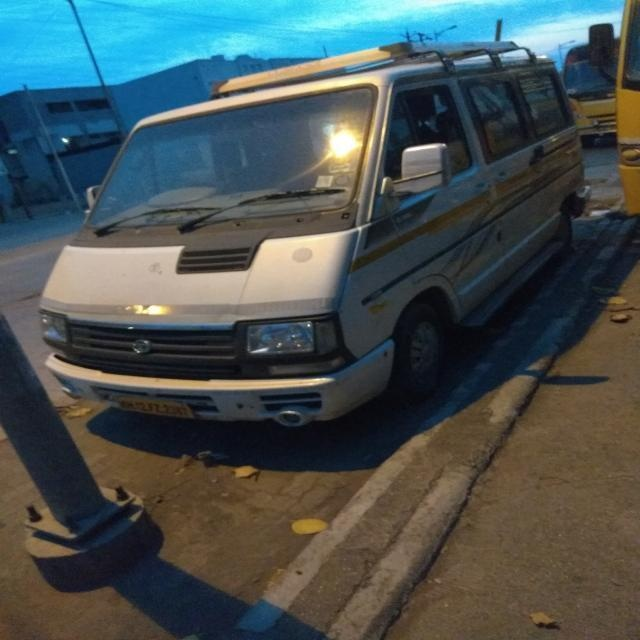Car: (44, 46, 572, 406)
